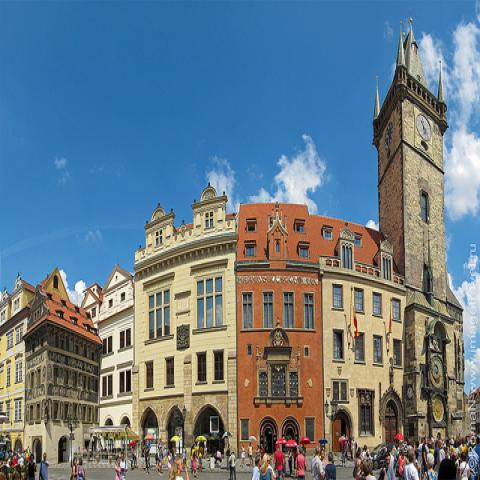car: (371, 443, 387, 470), (111, 448, 122, 459)
